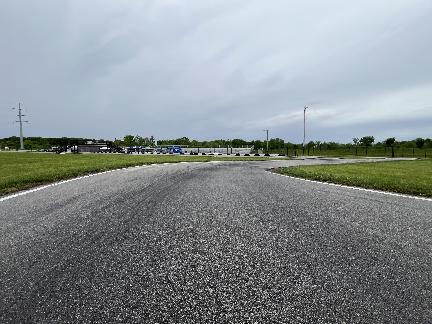Grass: (0, 153, 292, 194), (273, 160, 431, 196), (310, 157, 384, 159)
Lane: (0, 159, 431, 323)
